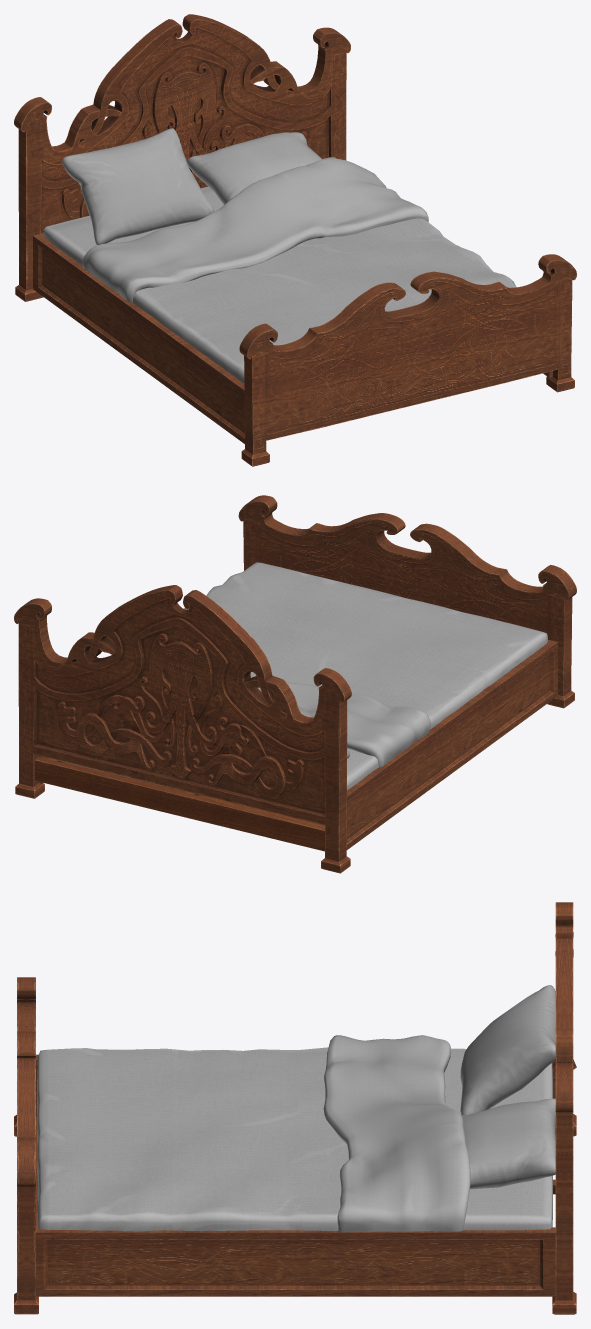
Rendered from BED_3.glb.
3 views of the same model, one above another, from view 1: azimuth 30°, elevation 25°; view 2: azimuth 150°, elevation 25°; view 3: azimuth 270°, elevation 25° (orthographic). The views are drawn at different scales.
Parts seen in each view (by area): view 1: Object_5; view 2: Object_5; view 3: Object_5.
Part boxes in pixels (x1=…): Object_5: x1=14, y1=14, x2=576, y2=466; Object_5: x1=14, y1=495, x2=576, y2=873; Object_5: x1=14, y1=902, x2=576, y2=1314.
Bounding box in the file's own units: 1.26 × 0.8763 × 1.56.
Materials: 7 (7 with a texture image).
